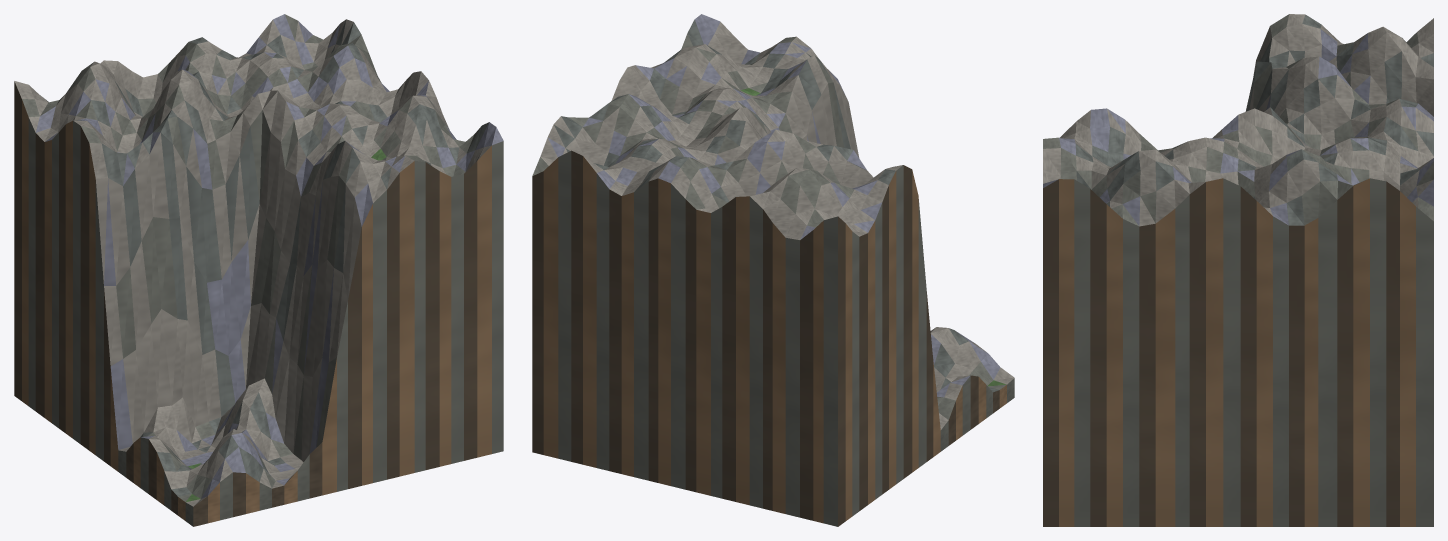
The model's file is cliff_wall_corner_out.fbx.
3 renders of one model, left to right at view 1: azimuth 30°, elevation 25°; view 2: azimuth 150°, elevation 25°; view 3: azimuth 270°, elevation 25°, orthographic. The views are drawn at different scales.
Visible parts, largest first — view 1: cliff_wall_corner_out; view 2: cliff_wall_corner_out; view 3: cliff_wall_corner_out.
Part boxes in pixels (x1=…): cliff_wall_corner_out: x1=14, y1=14, x2=503, y2=526; cliff_wall_corner_out: x1=532, y1=14, x2=1014, y2=526; cliff_wall_corner_out: x1=1043, y1=14, x2=1433, y2=526.
Bounding box in the file's own units: 1400 × 1450 × 1400.
Materials: 1 (1 with a texture image).
